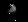person: (8, 6, 18, 19)
